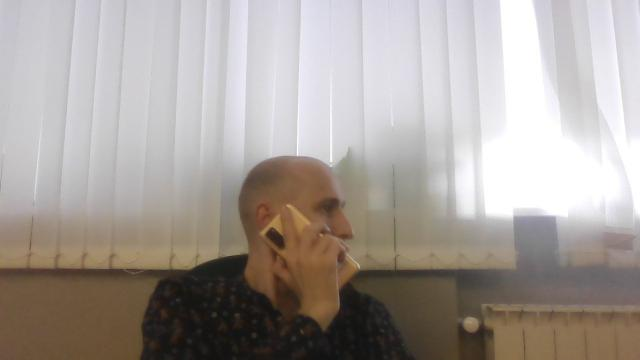Phone: (258, 202, 360, 296)
